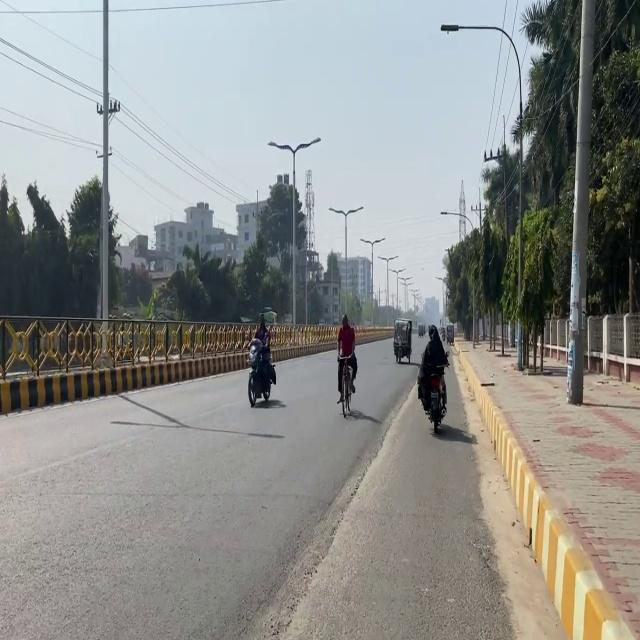Construction-barrier: (256, 470, 376, 632), (532, 486, 640, 640)
Fallen-tree: (417, 361, 450, 433), (392, 318, 412, 364), (417, 324, 424, 337)
Garbage-bin: (417, 324, 449, 413), (247, 309, 277, 392), (336, 314, 357, 402)
Light-pole: (565, 0, 597, 405), (97, 0, 111, 324)
Pole: (0, 303, 250, 428)
Pothole: (452, 338, 636, 638)
